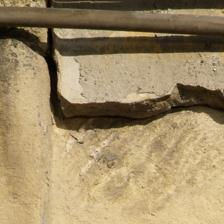Crack: (10, 141, 117, 191), (1, 80, 70, 145)
